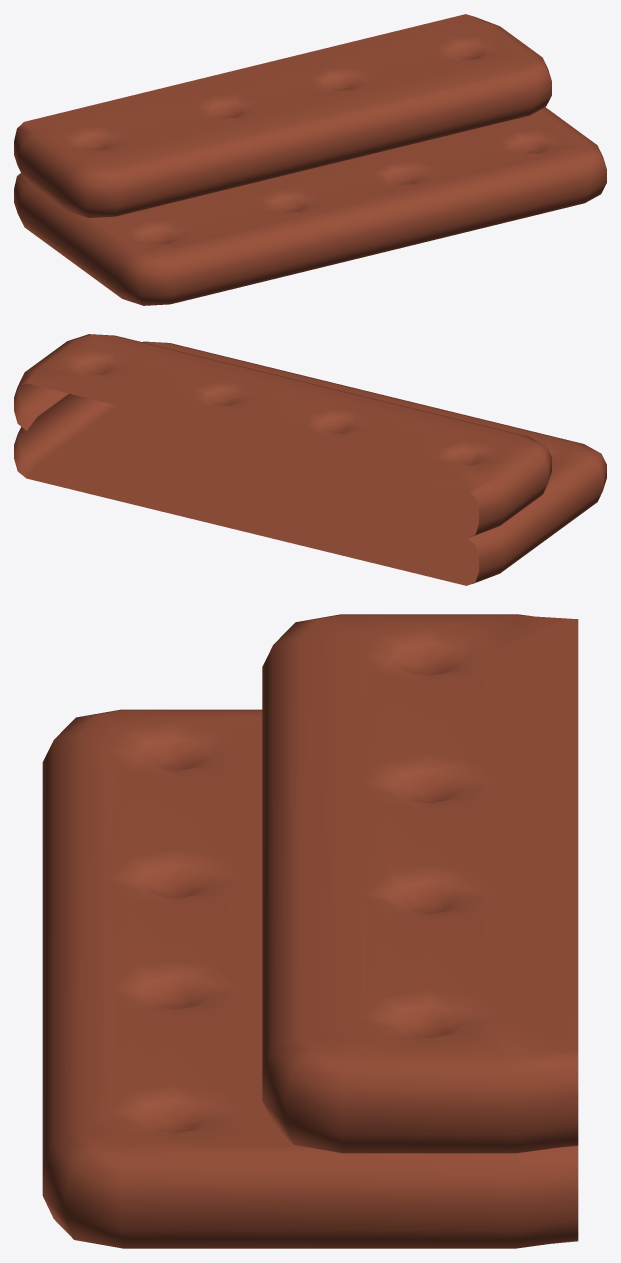
Rendered from Cookie_002.glb.
3 renders of one model, top to bottom at view 1: azimuth 30°, elevation 25°; view 2: azimuth 150°, elevation 25°; view 3: azimuth 270°, elevation 25°, orthographic. The views are drawn at different scales.
Visible parts, largest first — view 1: Cookie_002; view 2: Cookie_002; view 3: Cookie_002.
Part boxes in pixels (x1,y1,x2,y2): Cookie_002: (14,14,606,305); Cookie_002: (14,334,606,585); Cookie_002: (42,614,578,1248).
Size of the model in its own units: 1.84 by 0.3459 by 0.8814.
1 material, 1 textured.
